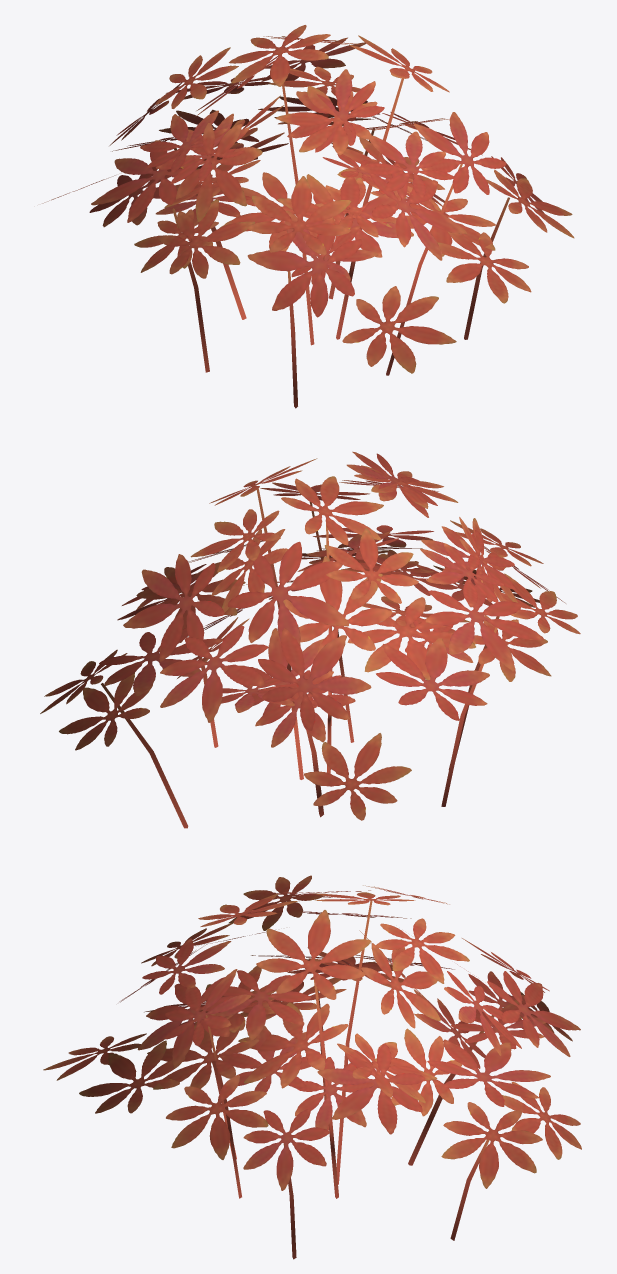
Rendered from P_BushChina01.obj.
3 views of the same model, one above another, from view 1: azimuth 30°, elevation 25°; view 2: azimuth 150°, elevation 25°; view 3: azimuth 270°, elevation 25° (orthographic). The views are drawn at different scales.
Size of the model in its own units: 2.19 by 1.48 by 2.5.
